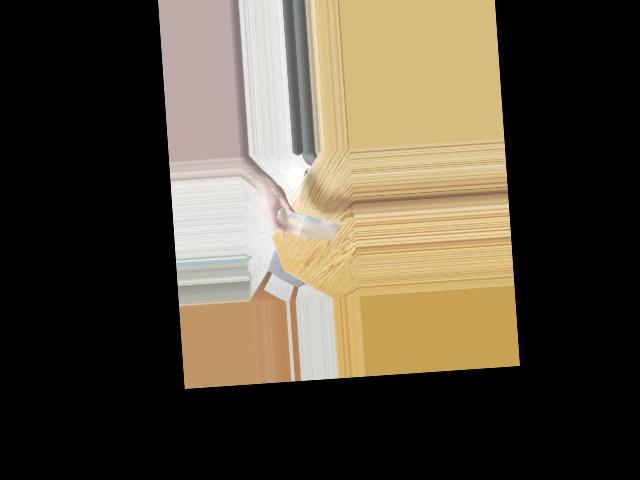cheese: (271, 211, 340, 240)
